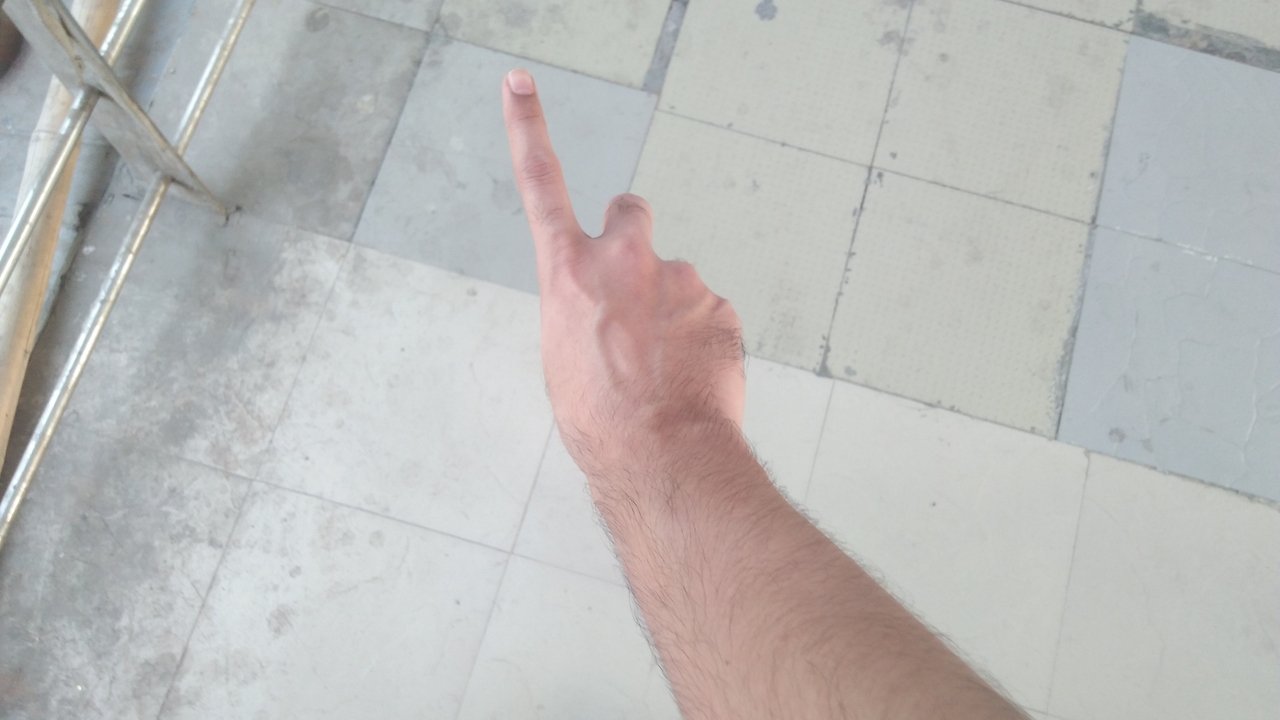fingertip: (492, 58, 548, 104)
